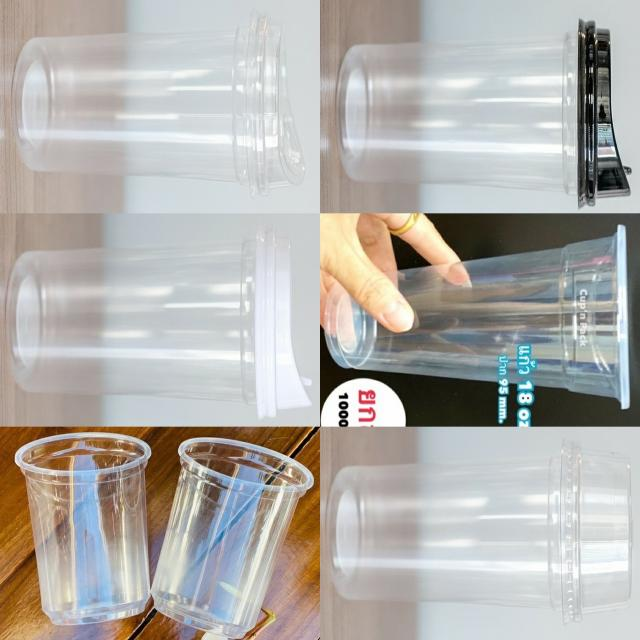Single-Use-Plastic: (6, 228, 311, 418), (324, 225, 629, 409), (328, 441, 632, 622), (338, 20, 630, 207), (13, 14, 305, 196), (151, 438, 314, 638), (15, 432, 151, 624)
